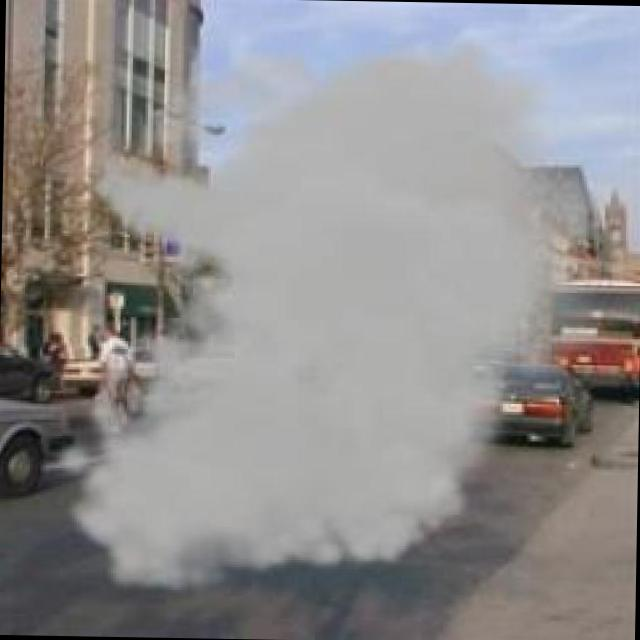Smoke: (47, 27, 622, 603)
